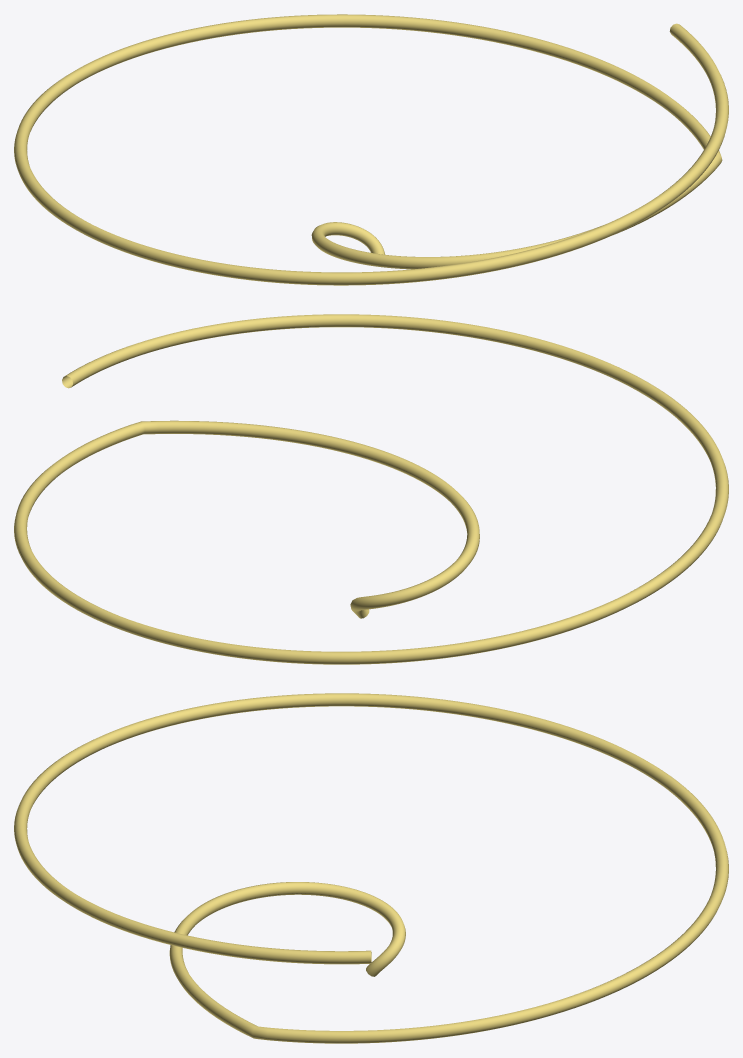
The model's file is ex_log_spiral.glb.
3 views of the same model, one above another, from view 1: azimuth 30°, elevation 25°; view 2: azimuth 150°, elevation 25°; view 3: azimuth 270°, elevation 25° (orthographic).
Parts seen in each view (by area): view 1: LogSpiral; view 2: LogSpiral; view 3: LogSpiral.
Boxes of the visible parts, x1,y1,x2,y2 form: LogSpiral: [14, 14, 728, 285]; LogSpiral: [14, 314, 728, 664]; LogSpiral: [14, 693, 728, 1043].
Size of the model in its own units: 4.89 by 1.27 by 4.89.
